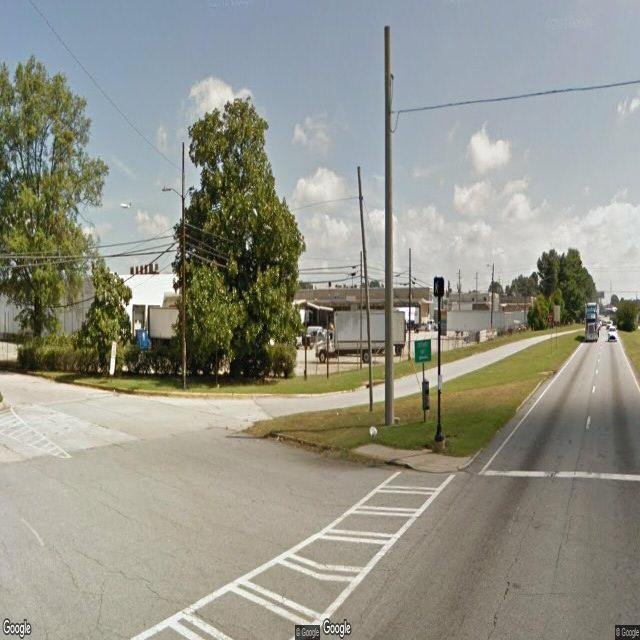trash_can: (422, 381, 429, 410)
